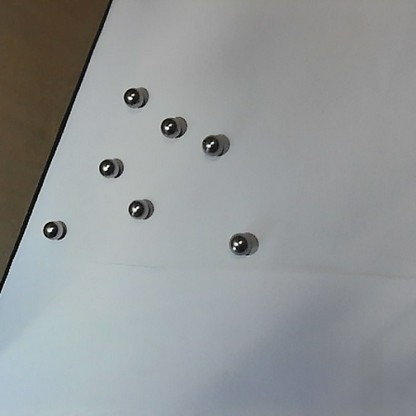ironball: (198, 131, 227, 160), (227, 230, 253, 259), (40, 216, 65, 244), (126, 197, 152, 222), (96, 155, 122, 179), (158, 115, 183, 138), (121, 85, 146, 107)
